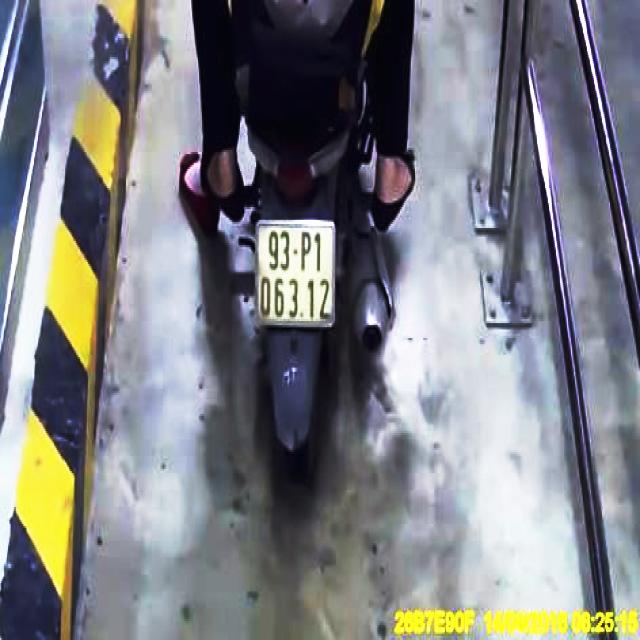license_plate: (255, 225, 338, 325)
